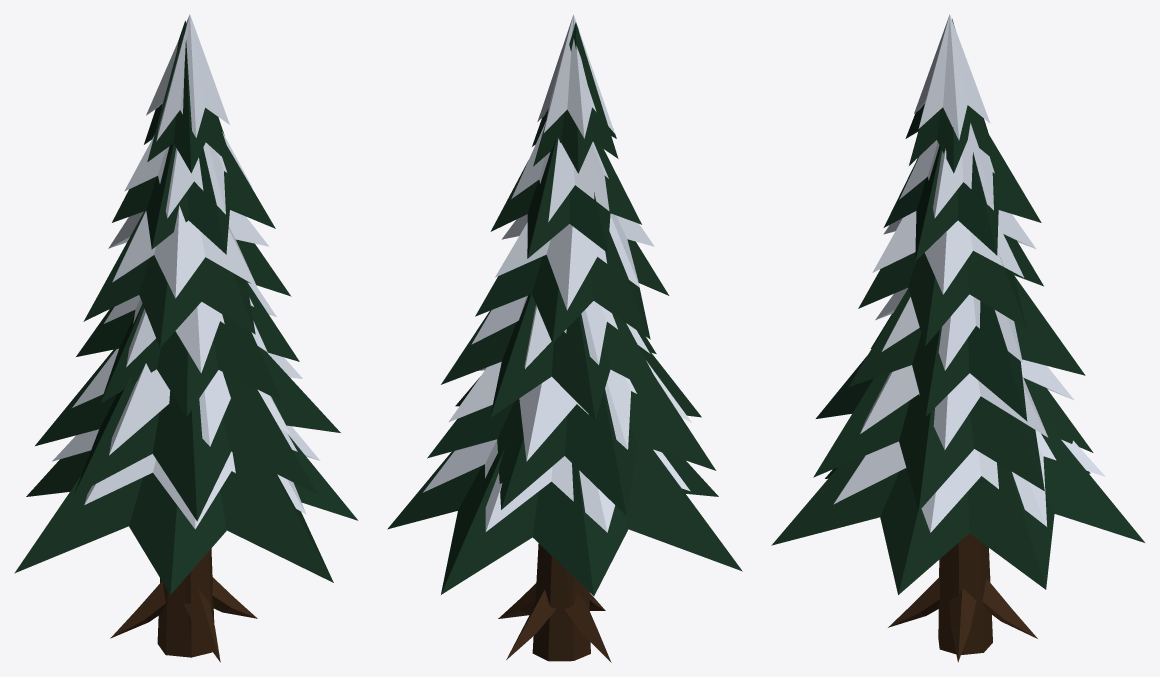
File: pino_nevado_a.fbx
The picture shows the model from 3 angles, left to right: view 1: azimuth 30°, elevation 25°; view 2: azimuth 150°, elevation 25°; view 3: azimuth 270°, elevation 25°; orthographic projection.
Parts seen in each view (by area): view 1: pino_nevado_a; view 2: pino_nevado_a; view 3: pino_nevado_a.
Boxes of the visible parts, x1,y1,x2,y2 form: pino_nevado_a: (14,14,358,662); pino_nevado_a: (387,14,742,662); pino_nevado_a: (771,14,1144,662).
Bounding box in the file's own units: 5.15 × 9.96 × 5.39.
